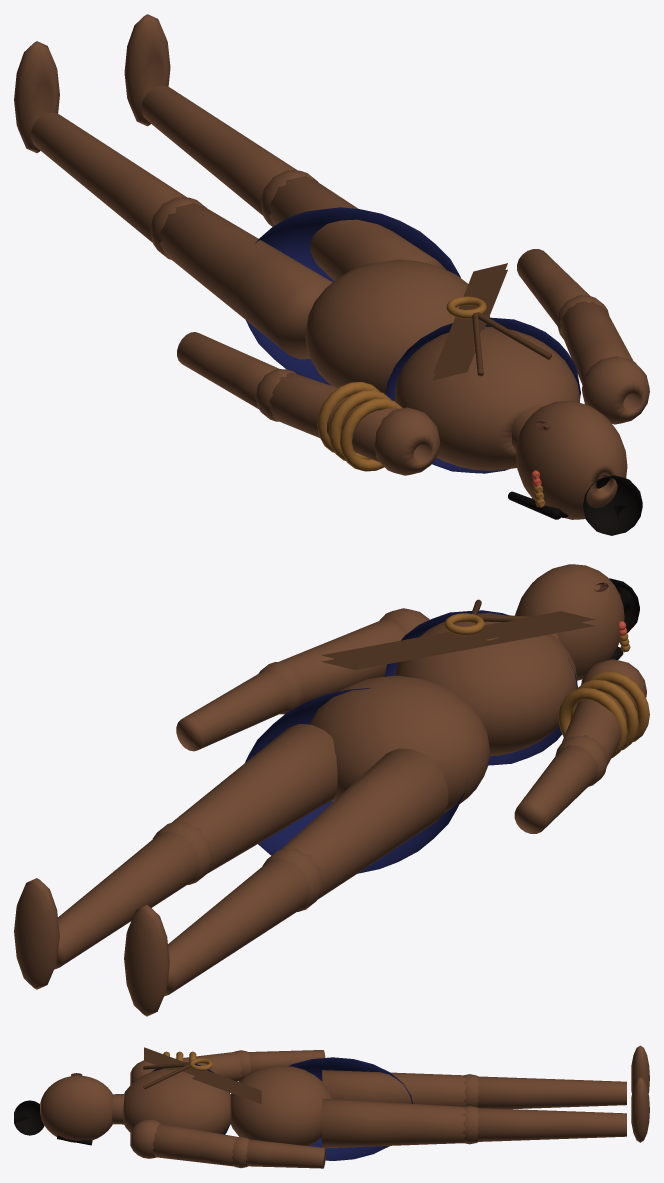
Rendered from ADANNA_AD03_V2.obj.
The picture shows the model from 3 angles, top to bottom: view 1: azimuth 30°, elevation 25°; view 2: azimuth 150°, elevation 25°; view 3: azimuth 270°, elevation 25°; orthographic projection. The views are drawn at different scales.
Visible parts, largest first — view 1: neck_torso_upper, pelvis_lower, thigh.L, shin_foot.R, shin_foot.L, head, upperarm.L, thigh.R, upperarm.R, skirt_wrap_indigo, forearm_hand.L, baldric_L_to_R (+7 smaller); view 2: pelvis_lower, thigh.R, thigh.L, neck_torso_upper, shin_foot.L, shin_foot.R, head, forearm_hand.R, baldric_L_to_R, upperarm.R, forearm_hand.L, skirt_wrap_indigo (+7 smaller); view 3: thigh.R, pelvis_lower, shin_foot.R, neck_torso_upper, shin_foot.L, thigh.L, head, upperarm.R, forearm_hand.R, skirt_wrap_indigo, baldric_L_to_R, forearm_hand.L (+4 smaller).
Boxes of the visible parts, x1=… form: neck_torso_upper: x1=395, y1=326, x2=579, y2=470; pelvis_lower: x1=305, y1=259, x2=489, y2=394; thigh.L: x1=150, y1=197, x2=332, y2=359; shin_foot.R: x1=124, y1=14, x2=297, y2=215; shin_foot.L: x1=14, y1=41, x2=186, y2=242; head: x1=511, y1=400, x2=627, y2=519; upperarm.L: x1=269, y1=372, x2=440, y2=475; thigh.R: x1=260, y1=170, x2=445, y2=280; upperarm.R: x1=560, y1=301, x2=649, y2=424; skirt_wrap_indigo: x1=245, y1=207, x2=460, y2=385; forearm_hand.L: x1=177, y1=332, x2=296, y2=421; baldric_L_to_R: x1=432, y1=263, x2=507, y2=380; pelvis_lower: x1=309, y1=675, x2=490, y2=812; thigh.R: x1=152, y1=724, x2=337, y2=884; thigh.L: x1=262, y1=748, x2=448, y2=911; neck_torso_upper: x1=394, y1=613, x2=577, y2=756; shin_foot.L: x1=124, y1=858, x2=309, y2=1016; shin_foot.R: x1=14, y1=831, x2=199, y2=989; head: x1=515, y1=564, x2=624, y2=680; forearm_hand.R: x1=176, y1=661, x2=304, y2=751; baldric_L_to_R: x1=321, y1=611, x2=594, y2=669; upperarm.R: x1=279, y1=608, x2=429, y2=704; forearm_hand.L: x1=514, y1=735, x2=607, y2=833; skirt_wrap_indigo: x1=245, y1=688, x2=467, y2=873; thigh.R: x1=322, y1=1098, x2=478, y2=1148; pelvis_lower: x1=230, y1=1065, x2=332, y2=1145; shin_foot.R: x1=477, y1=1077, x2=649, y2=1142; neck_torso_upper: x1=122, y1=1068, x2=230, y2=1134; shin_foot.L: x1=477, y1=1045, x2=649, y2=1109; thigh.L: x1=322, y1=1070, x2=478, y2=1107; head: x1=40, y1=1075, x2=124, y2=1142; upperarm.R: x1=130, y1=1119, x2=239, y2=1166; forearm_hand.R: x1=231, y1=1136, x2=325, y2=1168; skirt_wrap_indigo: x1=288, y1=1057, x2=412, y2=1160; baldric_L_to_R: x1=144, y1=1047, x2=261, y2=1104; forearm_hand.L: x1=234, y1=1050, x2=325, y2=1081.
Bounding box in the file's own units: 0.7282 × 0.295 × 1.84.
